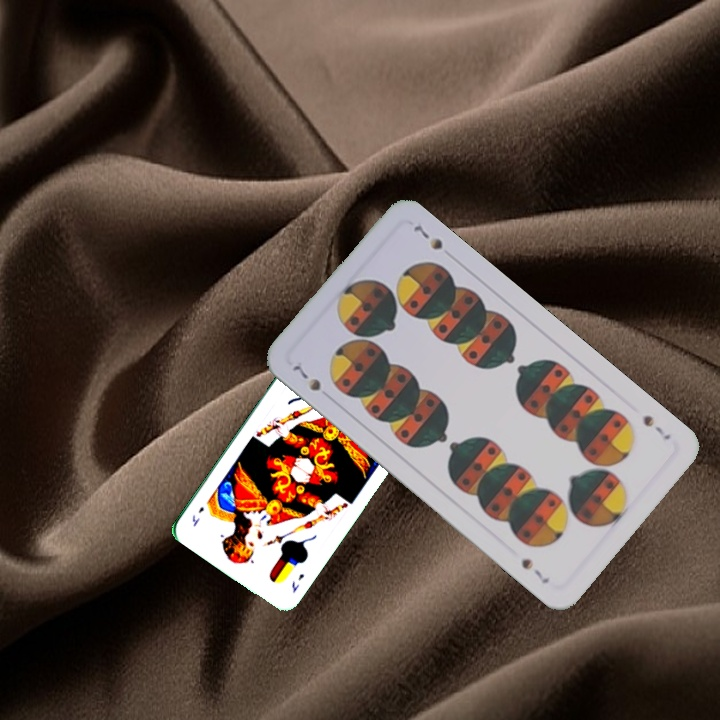EK: (287, 570, 307, 595)
S7: (288, 360, 324, 394), (638, 411, 674, 443)
